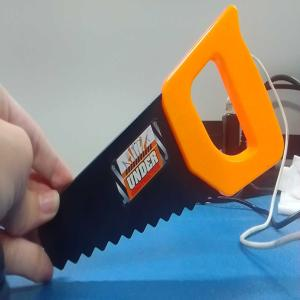serrote: (49, 4, 279, 270)
